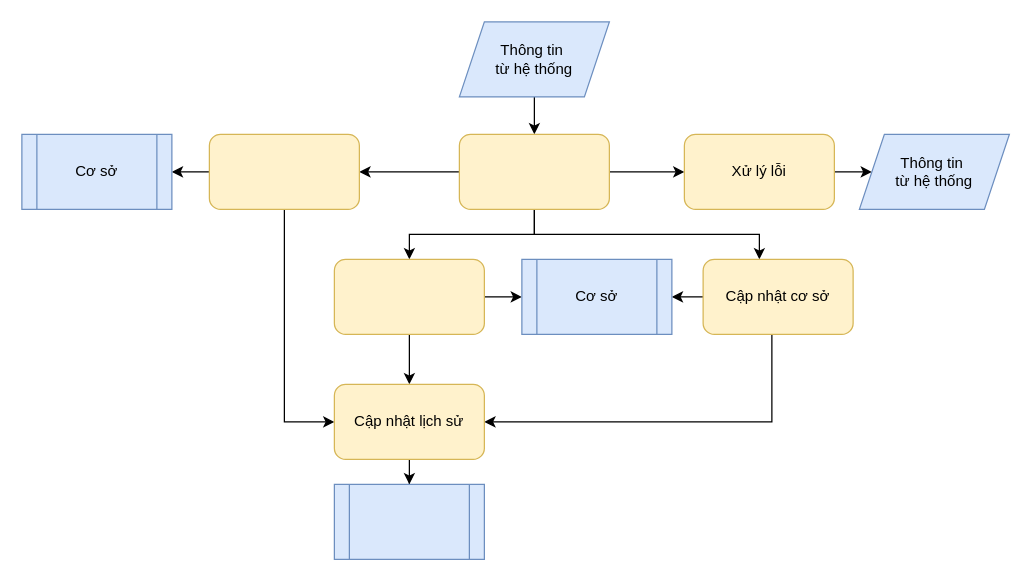
Some shapes in this 1031 by 581 pixel diagram are drawn without their labels. Here are the shapes that lost their labels. From the top down, the box of each, then its label:
(208, 133, 359, 209): Xóa cơ sở
(458, 133, 609, 209): Xác định tiến trình sẽ thực hiện
(333, 258, 484, 334): Thêm mới Cơ sở
(333, 483, 484, 559): Lịch sử
